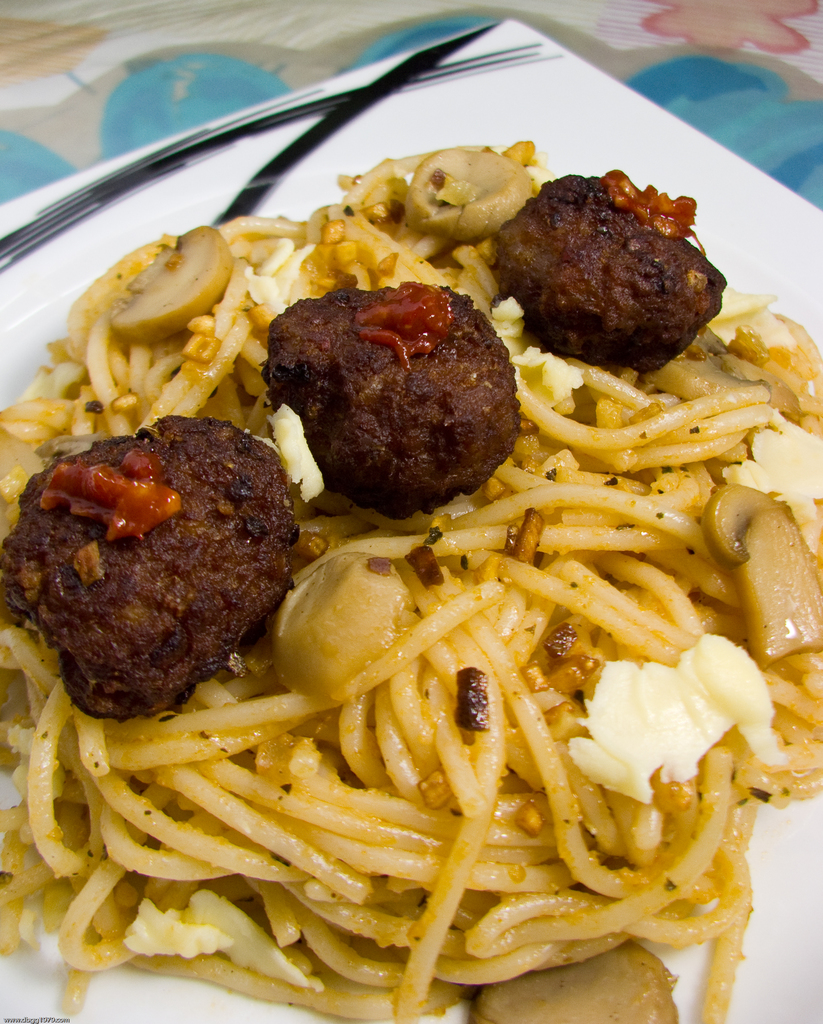pasta: (0, 139, 822, 1023)
